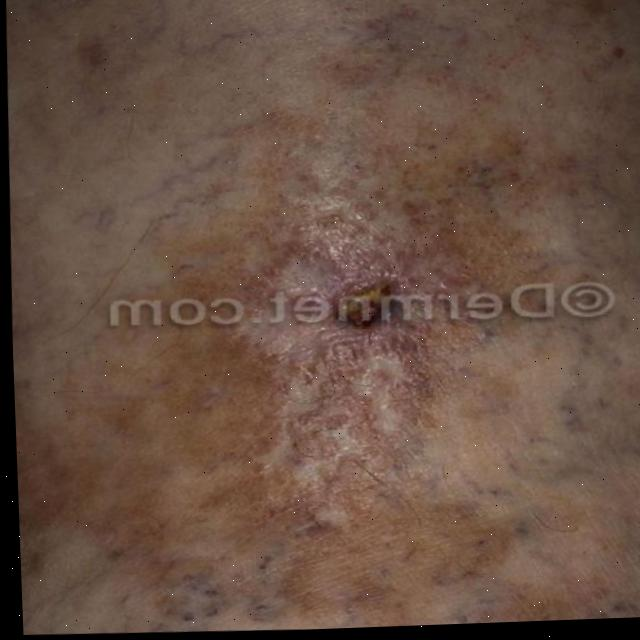Eczema: (121, 103, 563, 568)
